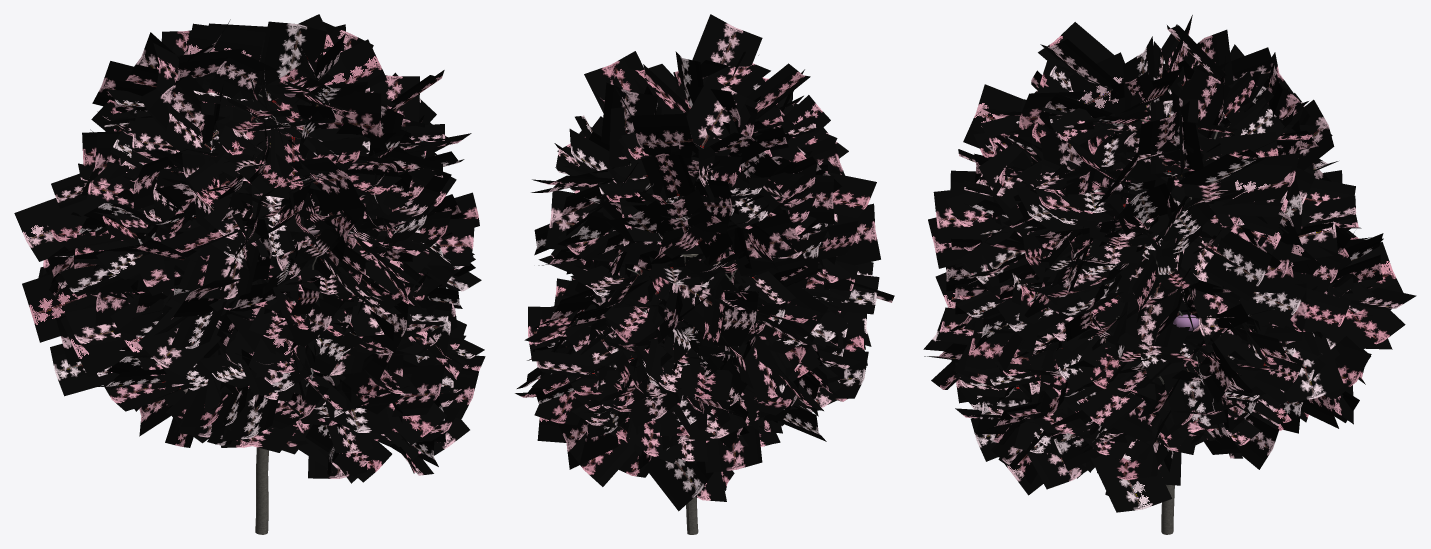
The model's file is tree_10_red_maple.glb.
3 views of the same model, side by side, from view 1: azimuth 30°, elevation 25°; view 2: azimuth 150°, elevation 25°; view 3: azimuth 270°, elevation 25° (orthographic). The views are drawn at different scales.
Visible parts, largest first — view 1: tree_10_red_maple.leaves, tree_10_red_maple.trunk_branches; view 2: tree_10_red_maple.leaves, tree_10_red_maple.trunk_branches; view 3: tree_10_red_maple.leaves, tree_10_red_maple.trunk_branches.
Part boxes in pixels (box(x1,y1,x2,y2)): tree_10_red_maple.leaves: box(14, 14, 485, 483); tree_10_red_maple.trunk_branches: box(255, 94, 321, 534); tree_10_red_maple.leaves: box(515, 14, 894, 511); tree_10_red_maple.trunk_branches: box(627, 163, 736, 534); tree_10_red_maple.leaves: box(923, 15, 1416, 512); tree_10_red_maple.trunk_branches: box(1089, 89, 1234, 534).
Size of the model in its own units: 5.41 by 7.81 by 6.87.
Materials: 3 (2 with a texture image).
